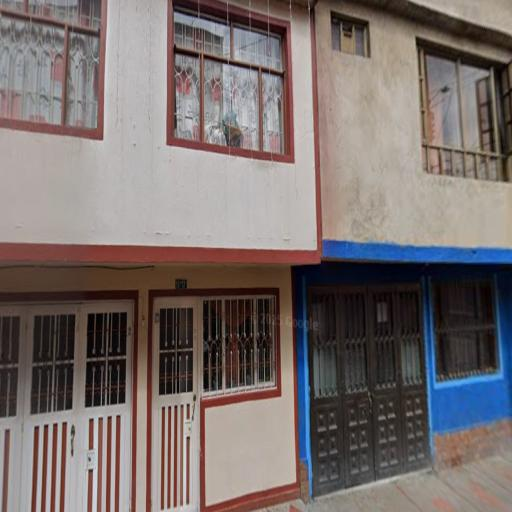Casa: (0, 0, 323, 511), (295, 0, 512, 502)
